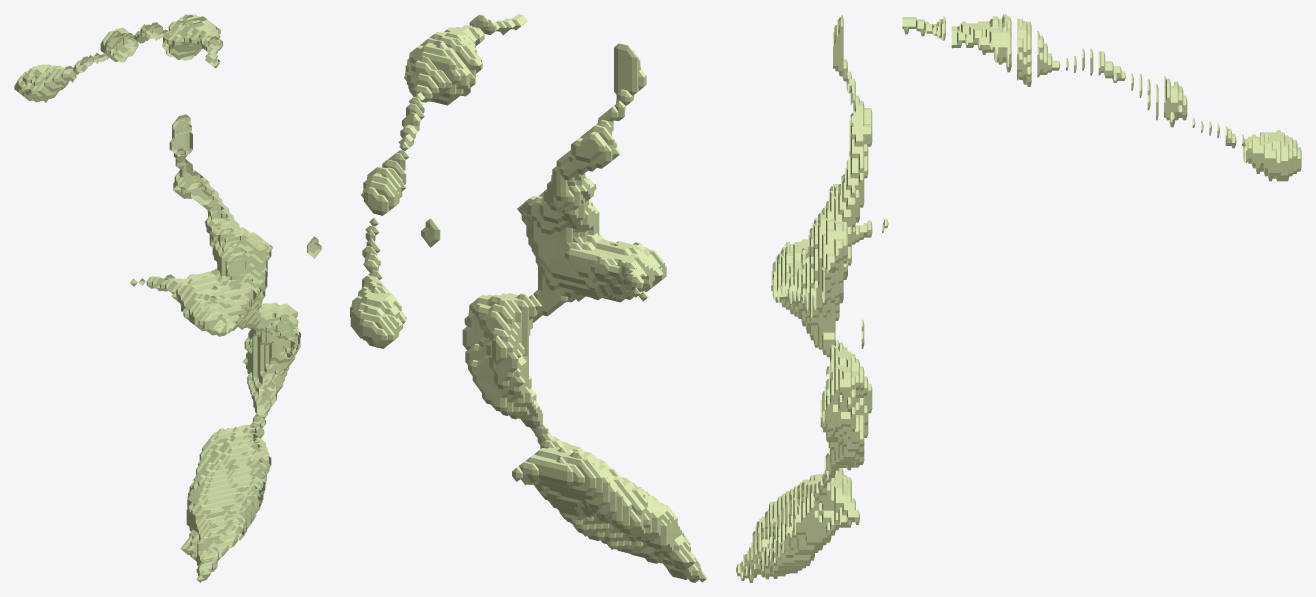
The model's file is SVV_URXR.gltf.
3 renders of one model, left to right at view 1: azimuth 30°, elevation 25°; view 2: azimuth 150°, elevation 25°; view 3: azimuth 270°, elevation 25°, orthographic. The views are drawn at different scales.
Visible parts, largest first — view 1: URXR; view 2: URXR; view 3: URXR.
Part boxes in pixels (bbox=[...]): URXR: bbox=[14, 14, 321, 582]; URXR: bbox=[350, 14, 707, 582]; URXR: bbox=[736, 14, 1301, 582].
Bounding box in the file's own units: 26119 × 64031 × 53145.
